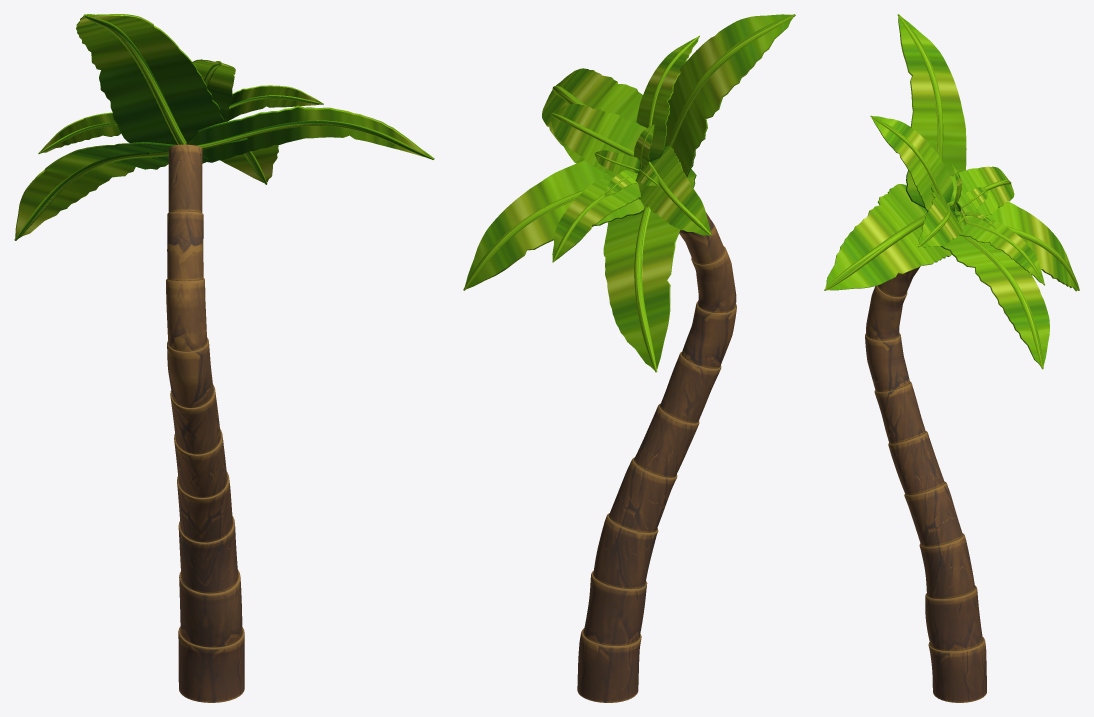
Rendered from arbolWumpa.obj.
3 renders of one model, left to right at view 1: azimuth 30°, elevation 25°; view 2: azimuth 150°, elevation 25°; view 3: azimuth 270°, elevation 25°, orthographic. The views are drawn at different scales.
Parts seen in each view (by area): view 1: palma_paint_Material.001, Cylinder.015_Material.003, Cylinder.014_Material.003, Cylinder.016_Material.003, Cylinder.013_Material.003, Cylinder.007_Material.003, Cylinder.008_Material.003, Cylinder.017_Material.003; view 2: palma_paint_Material.001, Cylinder.016_Material.003, Cylinder.015_Material.003, Cylinder.017_Material.003, Cylinder.013_Material.003, Cylinder.014_Material.003, Cylinder.007_Material.003, Cylinder.006_Material.003, Cylinder.008_Material.003, Cylinder.012_Material.003, Cylinder.011_Material.003; view 3: palma_paint_Material.001, Cylinder.014_Material.003, Cylinder.015_Material.003, Cylinder.017_Material.003, Cylinder.008_Material.003, Cylinder.016_Material.003, Cylinder.006_Material.003, Cylinder.007_Material.003, Cylinder.013_Material.003, Cylinder.010_Material.003.
Boxes of the visible parts, left/top/right/bottom form: palma_paint_Material.001: left=166, top=144, right=244, bottom=702; Cylinder.015_Material.003: left=76, top=14, right=223, bottom=149; Cylinder.014_Material.003: left=186, top=105, right=434, bottom=162; Cylinder.016_Material.003: left=14, top=142, right=208, bottom=240; Cylinder.013_Material.003: left=225, top=85, right=323, bottom=121; Cylinder.007_Material.003: left=38, top=112, right=121, bottom=153; Cylinder.008_Material.003: left=192, top=59, right=235, bottom=122; Cylinder.017_Material.003: left=146, top=138, right=278, bottom=184; palma_paint_Material.001: left=577, top=212, right=736, bottom=702; Cylinder.016_Material.003: left=603, top=169, right=696, bottom=372; Cylinder.015_Material.003: left=665, top=14, right=795, bottom=177; Cylinder.017_Material.003: left=463, top=160, right=644, bottom=290; Cylinder.013_Material.003: left=550, top=103, right=646, bottom=177; Cylinder.014_Material.003: left=542, top=68, right=642, bottom=163; Cylinder.007_Material.003: left=638, top=146, right=711, bottom=235; Cylinder.006_Material.003: left=552, top=175, right=640, bottom=262; Cylinder.008_Material.003: left=636, top=35, right=699, bottom=161; Cylinder.012_Material.003: left=594, top=150, right=639, bottom=174; Cylinder.011_Material.003: left=634, top=124, right=654, bottom=169; palma_paint_Material.001: left=865, top=266, right=986, bottom=702; Cylinder.014_Material.003: left=824, top=184, right=951, bottom=290; Cylinder.015_Material.003: left=897, top=14, right=966, bottom=207; Cylinder.017_Material.003: left=941, top=235, right=1049, bottom=369; Cylinder.008_Material.003: left=870, top=115, right=953, bottom=211; Cylinder.016_Material.003: left=985, top=201, right=1079, bottom=291; Cylinder.006_Material.003: left=957, top=217, right=1044, bottom=285; Cylinder.007_Material.003: left=949, top=166, right=1014, bottom=217; Cylinder.013_Material.003: left=918, top=187, right=962, bottom=247; Cylinder.010_Material.003: left=956, top=187, right=987, bottom=215.
Bounding box in the file's own units: 2.08 × 4.81 × 1.82.
